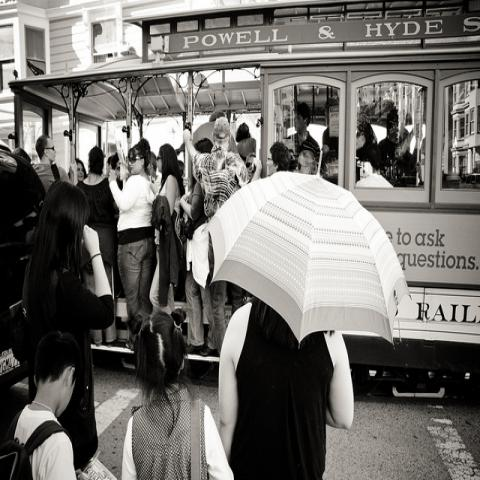bus: (10, 1, 480, 378)
car: (0, 142, 48, 352)
